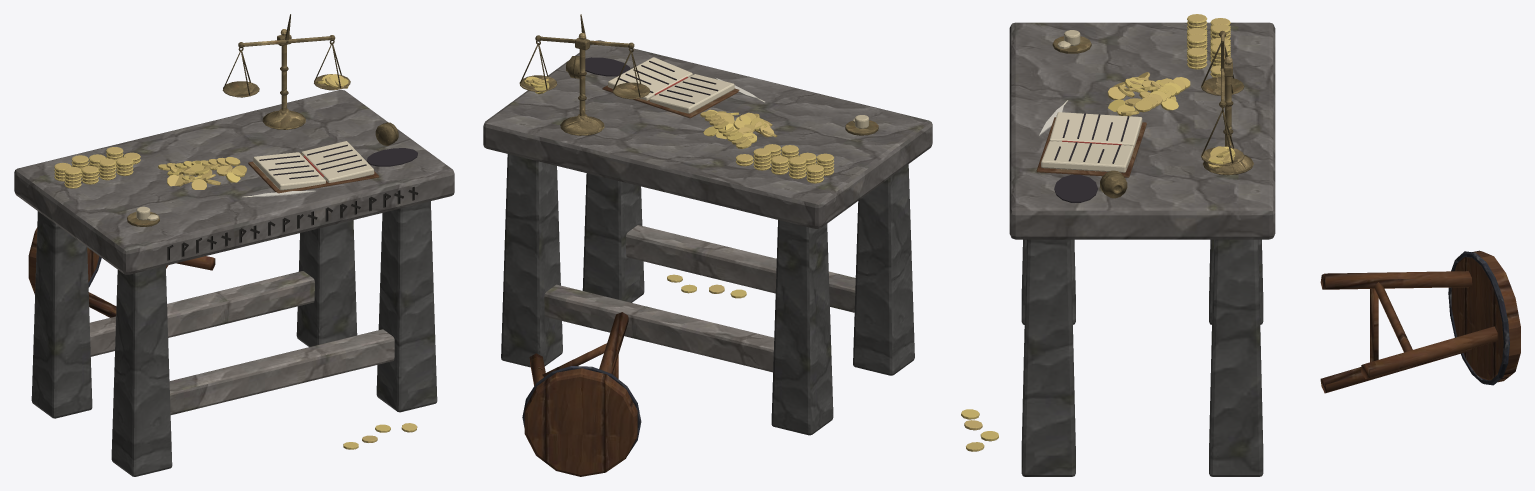
Rendered from bv_count_abandoned.glb.
3 views of the same model, side by side, from view 1: azimuth 30°, elevation 25°; view 2: azimuth 150°, elevation 25°; view 3: azimuth 270°, elevation 25° (orthographic). The views are drawn at different scales.
Visible parts, largest first — view 1: model; view 2: model; view 3: model.
Part boxes in pixels (x1,y1,x2,y2): model: (14,14,454,476); model: (483,14,932,476); model: (961,14,1520,476).
Size of the model in its own units: 1.15 by 1.14 by 1.43.
Materials: 57 (9 with a texture image).
